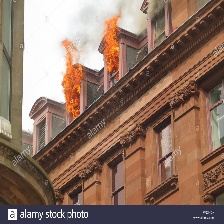fire: (59, 39, 85, 118), (99, 11, 124, 77)
